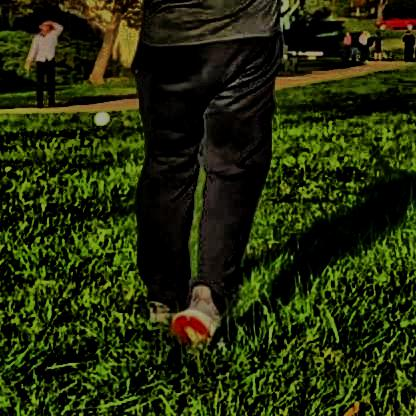golfball: (90, 108, 107, 125)
